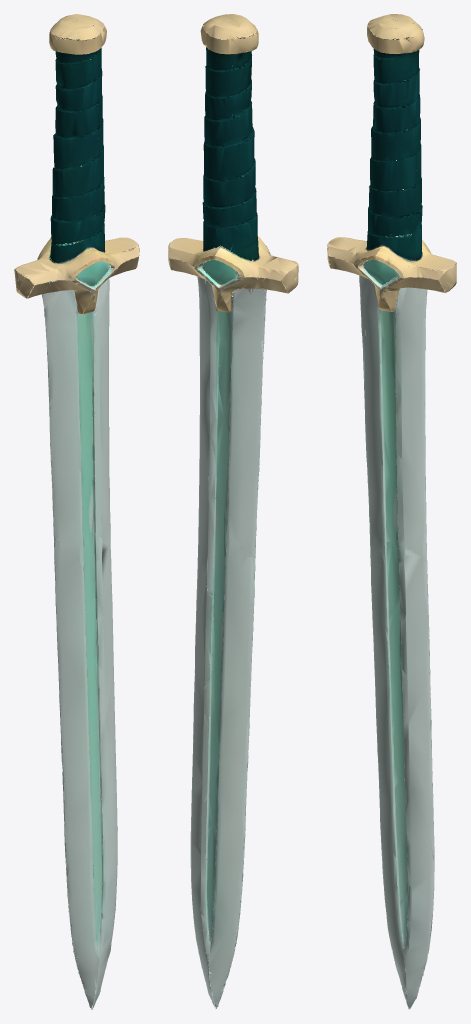
The model's file is qingyao_flying_sword_gameplay_lod.glb.
The picture shows the model from 3 angles, left to right: view 1: azimuth 30°, elevation 25°; view 2: azimuth 150°, elevation 25°; view 3: azimuth 330°, elevation 25°; orthographic projection.
Parts seen in each view (by area): view 1: QingyaoFlyingSwordV1; view 2: QingyaoFlyingSwordV1; view 3: QingyaoFlyingSwordV1.
Part boxes in pixels (x1,y1,x2,y2): QingyaoFlyingSwordV1: (14, 14, 139, 1009); QingyaoFlyingSwordV1: (168, 14, 298, 1008); QingyaoFlyingSwordV1: (327, 14, 456, 1009).
Bounding box in the file's own units: 0.288 × 2.2 × 0.1577.
Materials: 1 (1 with a texture image).
